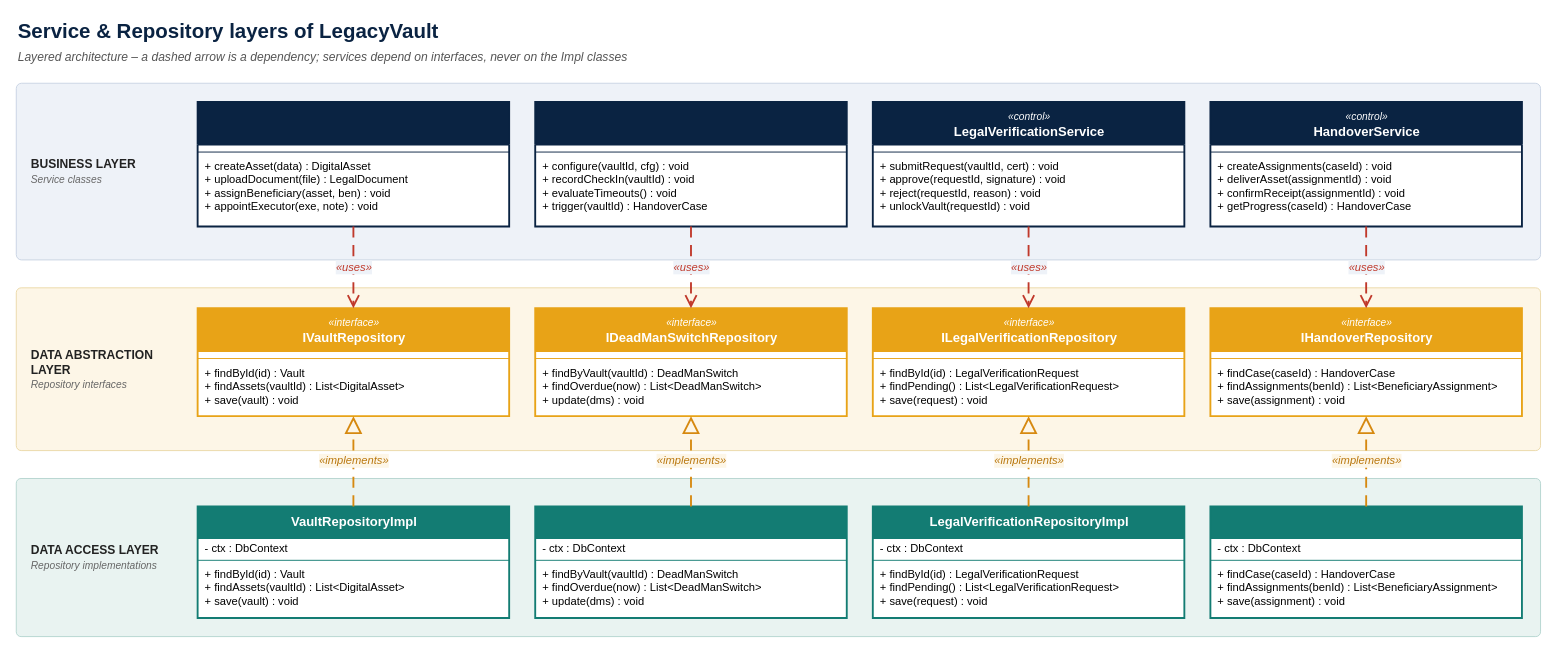
Image size: 1557x653. Some labels were removed from this diagram. The shapes that lost their labels are listed below. From the top down, each one's box as (x1, y1, x2, y2) in pixels, then its label:
(196, 100, 510, 227): «control» VaultService
(534, 100, 847, 227): «control» DeadManSwitchService
(534, 505, 847, 618): DeadManSwitchRepositoryImpl
(1209, 505, 1522, 618): HandoverRepositoryImpl
